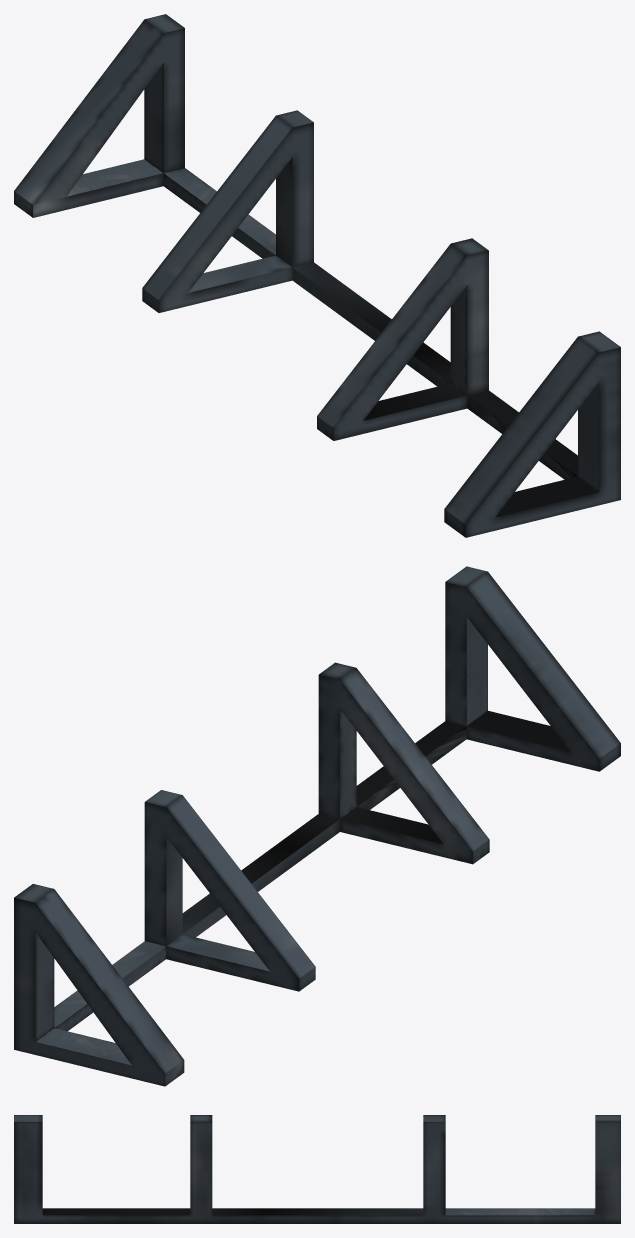
The model's file is sign_part.FBX.
The picture shows the model from 3 angles, top to bottom: view 1: azimuth 30°, elevation 25°; view 2: azimuth 150°, elevation 25°; view 3: azimuth 270°, elevation 25°; orthographic projection. The views are drawn at different scales.
Parts seen in each view (by area): view 1: Box119; view 2: Box119; view 3: Box119.
Part boxes in pixels (<box>): Box119: <box>14,14,620,537</box>; Box119: <box>14,566,620,1086</box>; Box119: <box>14,1115,620,1223</box>.
Size of the model in its own units: 29.87 by 28.13 by 152.
